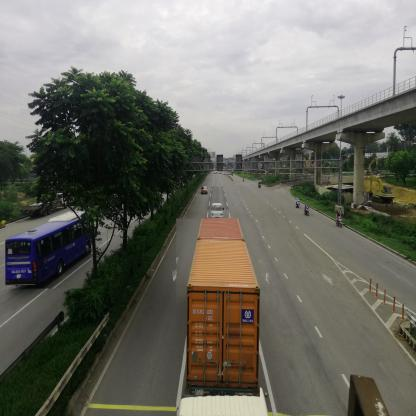bus: (6, 207, 92, 290)
car: (202, 188, 208, 196)
container: (177, 219, 261, 416)
motorbike: (338, 212, 343, 227), (306, 205, 310, 216), (297, 198, 301, 209), (259, 182, 262, 189)
truck: (212, 204, 225, 219)
